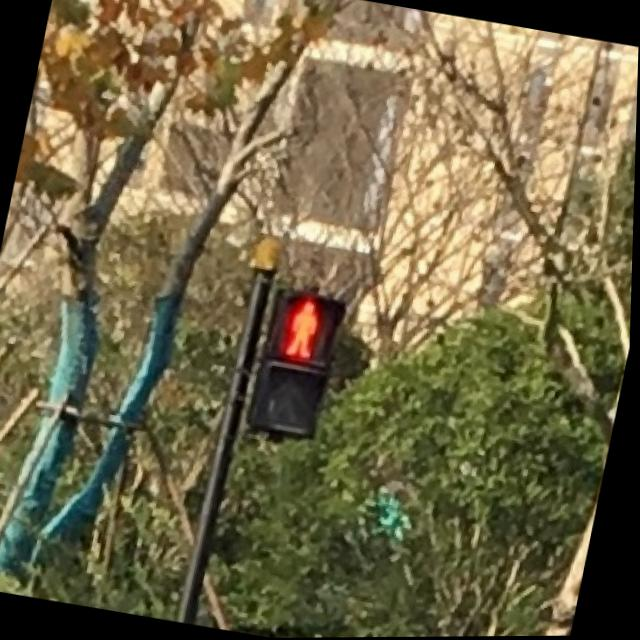red_light: (271, 286, 347, 369)
